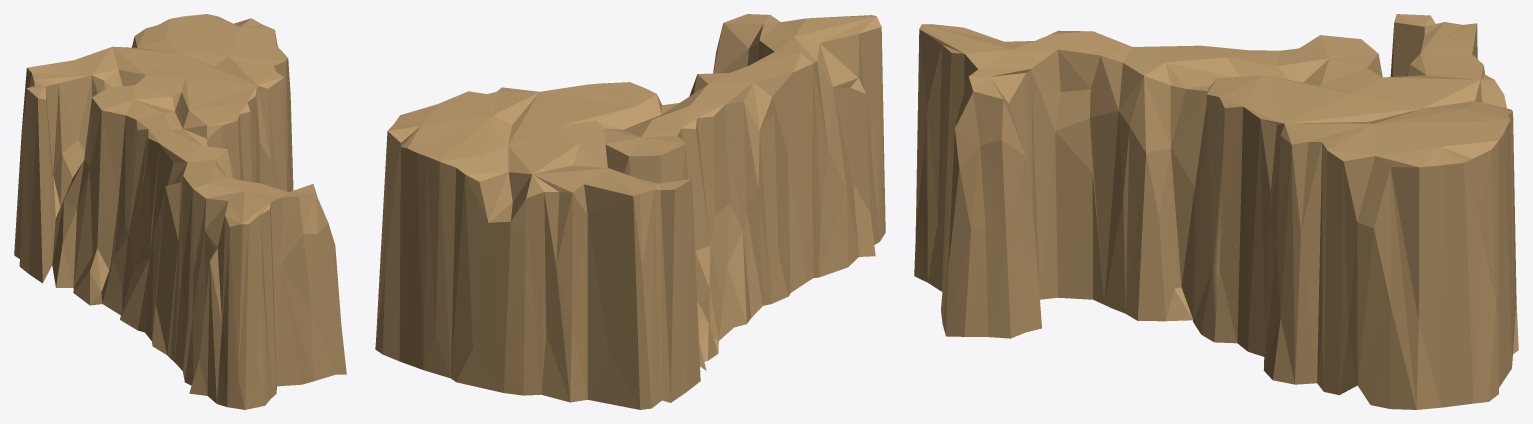
File: cliff.gltf
3 views of the same model, side by side, from view 1: azimuth 30°, elevation 25°; view 2: azimuth 150°, elevation 25°; view 3: azimuth 270°, elevation 25° (orthographic). The views are drawn at different scales.
Visible parts, largest first — view 1: cliff; view 2: cliff; view 3: cliff.
Boxes of the visible parts, x1,y1,x2,y2 form: cliff: (14, 14, 346, 409); cliff: (375, 14, 885, 409); cliff: (914, 14, 1518, 409).
Bounding box in the file's own units: 44.19 × 30.43 × 68.07.
